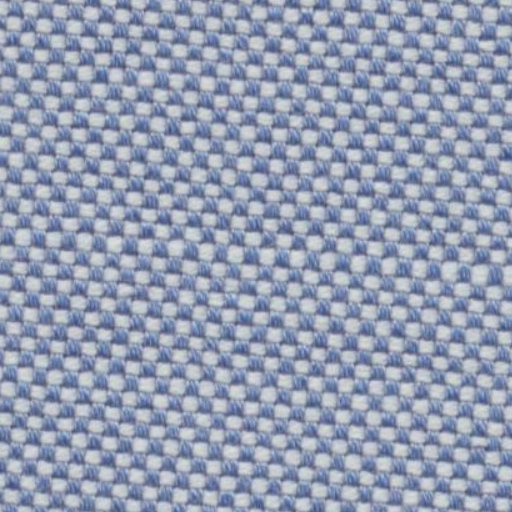TuoSha: (2, 202, 500, 302)
